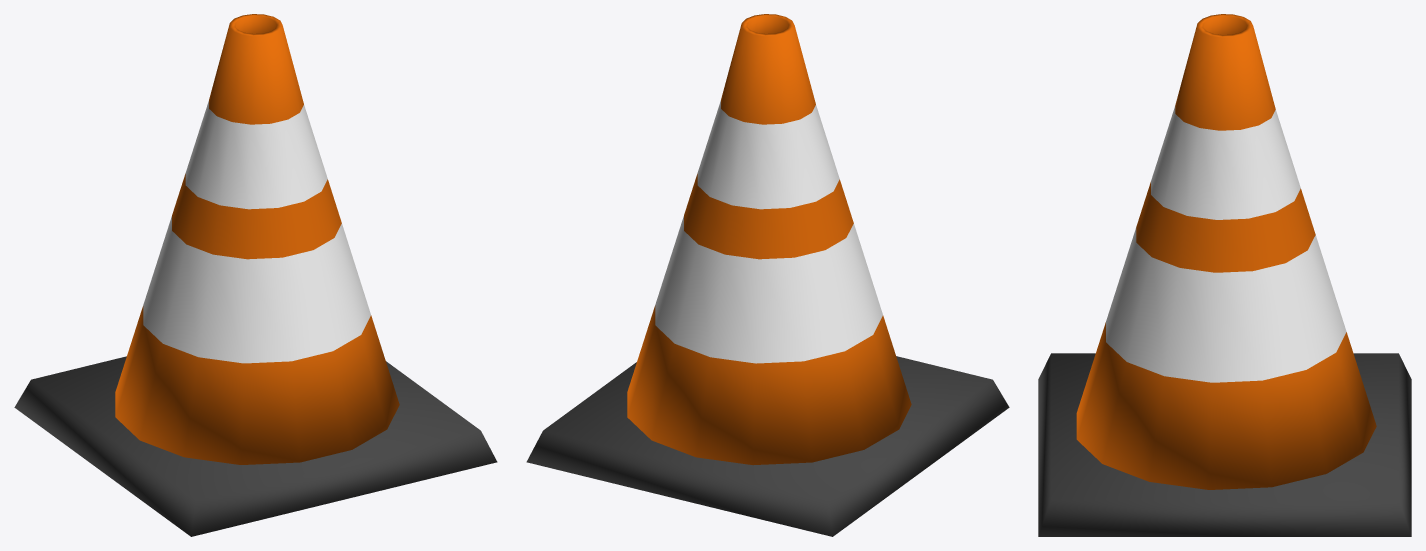
Rendered from trafficCone.fbx.
The picture shows the model from 3 angles, left to right: view 1: azimuth 30°, elevation 25°; view 2: azimuth 150°, elevation 25°; view 3: azimuth 270°, elevation 25°; orthographic projection. The views are drawn at different scales.
Visible parts, largest first — view 1: Cone, Cube; view 2: Cone, Cube; view 3: Cone, Cube.
Part boxes in pixels (x1,y1,x2,y2): Cone: (115, 14, 399, 464); Cube: (14, 356, 497, 536); Cone: (627, 14, 911, 465); Cube: (526, 356, 1009, 536); Cone: (1076, 14, 1376, 489); Cube: (1038, 353, 1411, 536).
Size of the model in its own units: 46.29 by 59.17 by 46.29.
